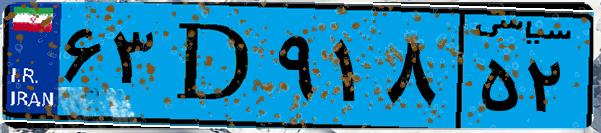1: (330, 28, 385, 110)
2: (525, 38, 570, 115)
3: (110, 28, 158, 98)
5: (475, 38, 525, 113)
6: (57, 26, 110, 100)
8: (385, 28, 445, 110)
9: (270, 28, 330, 110)
D: (158, 12, 270, 120)
